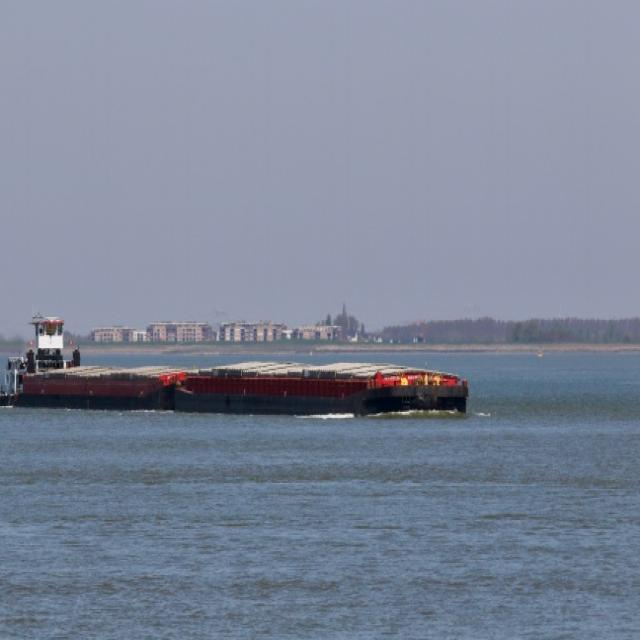tugboat: (1, 311, 89, 423)
